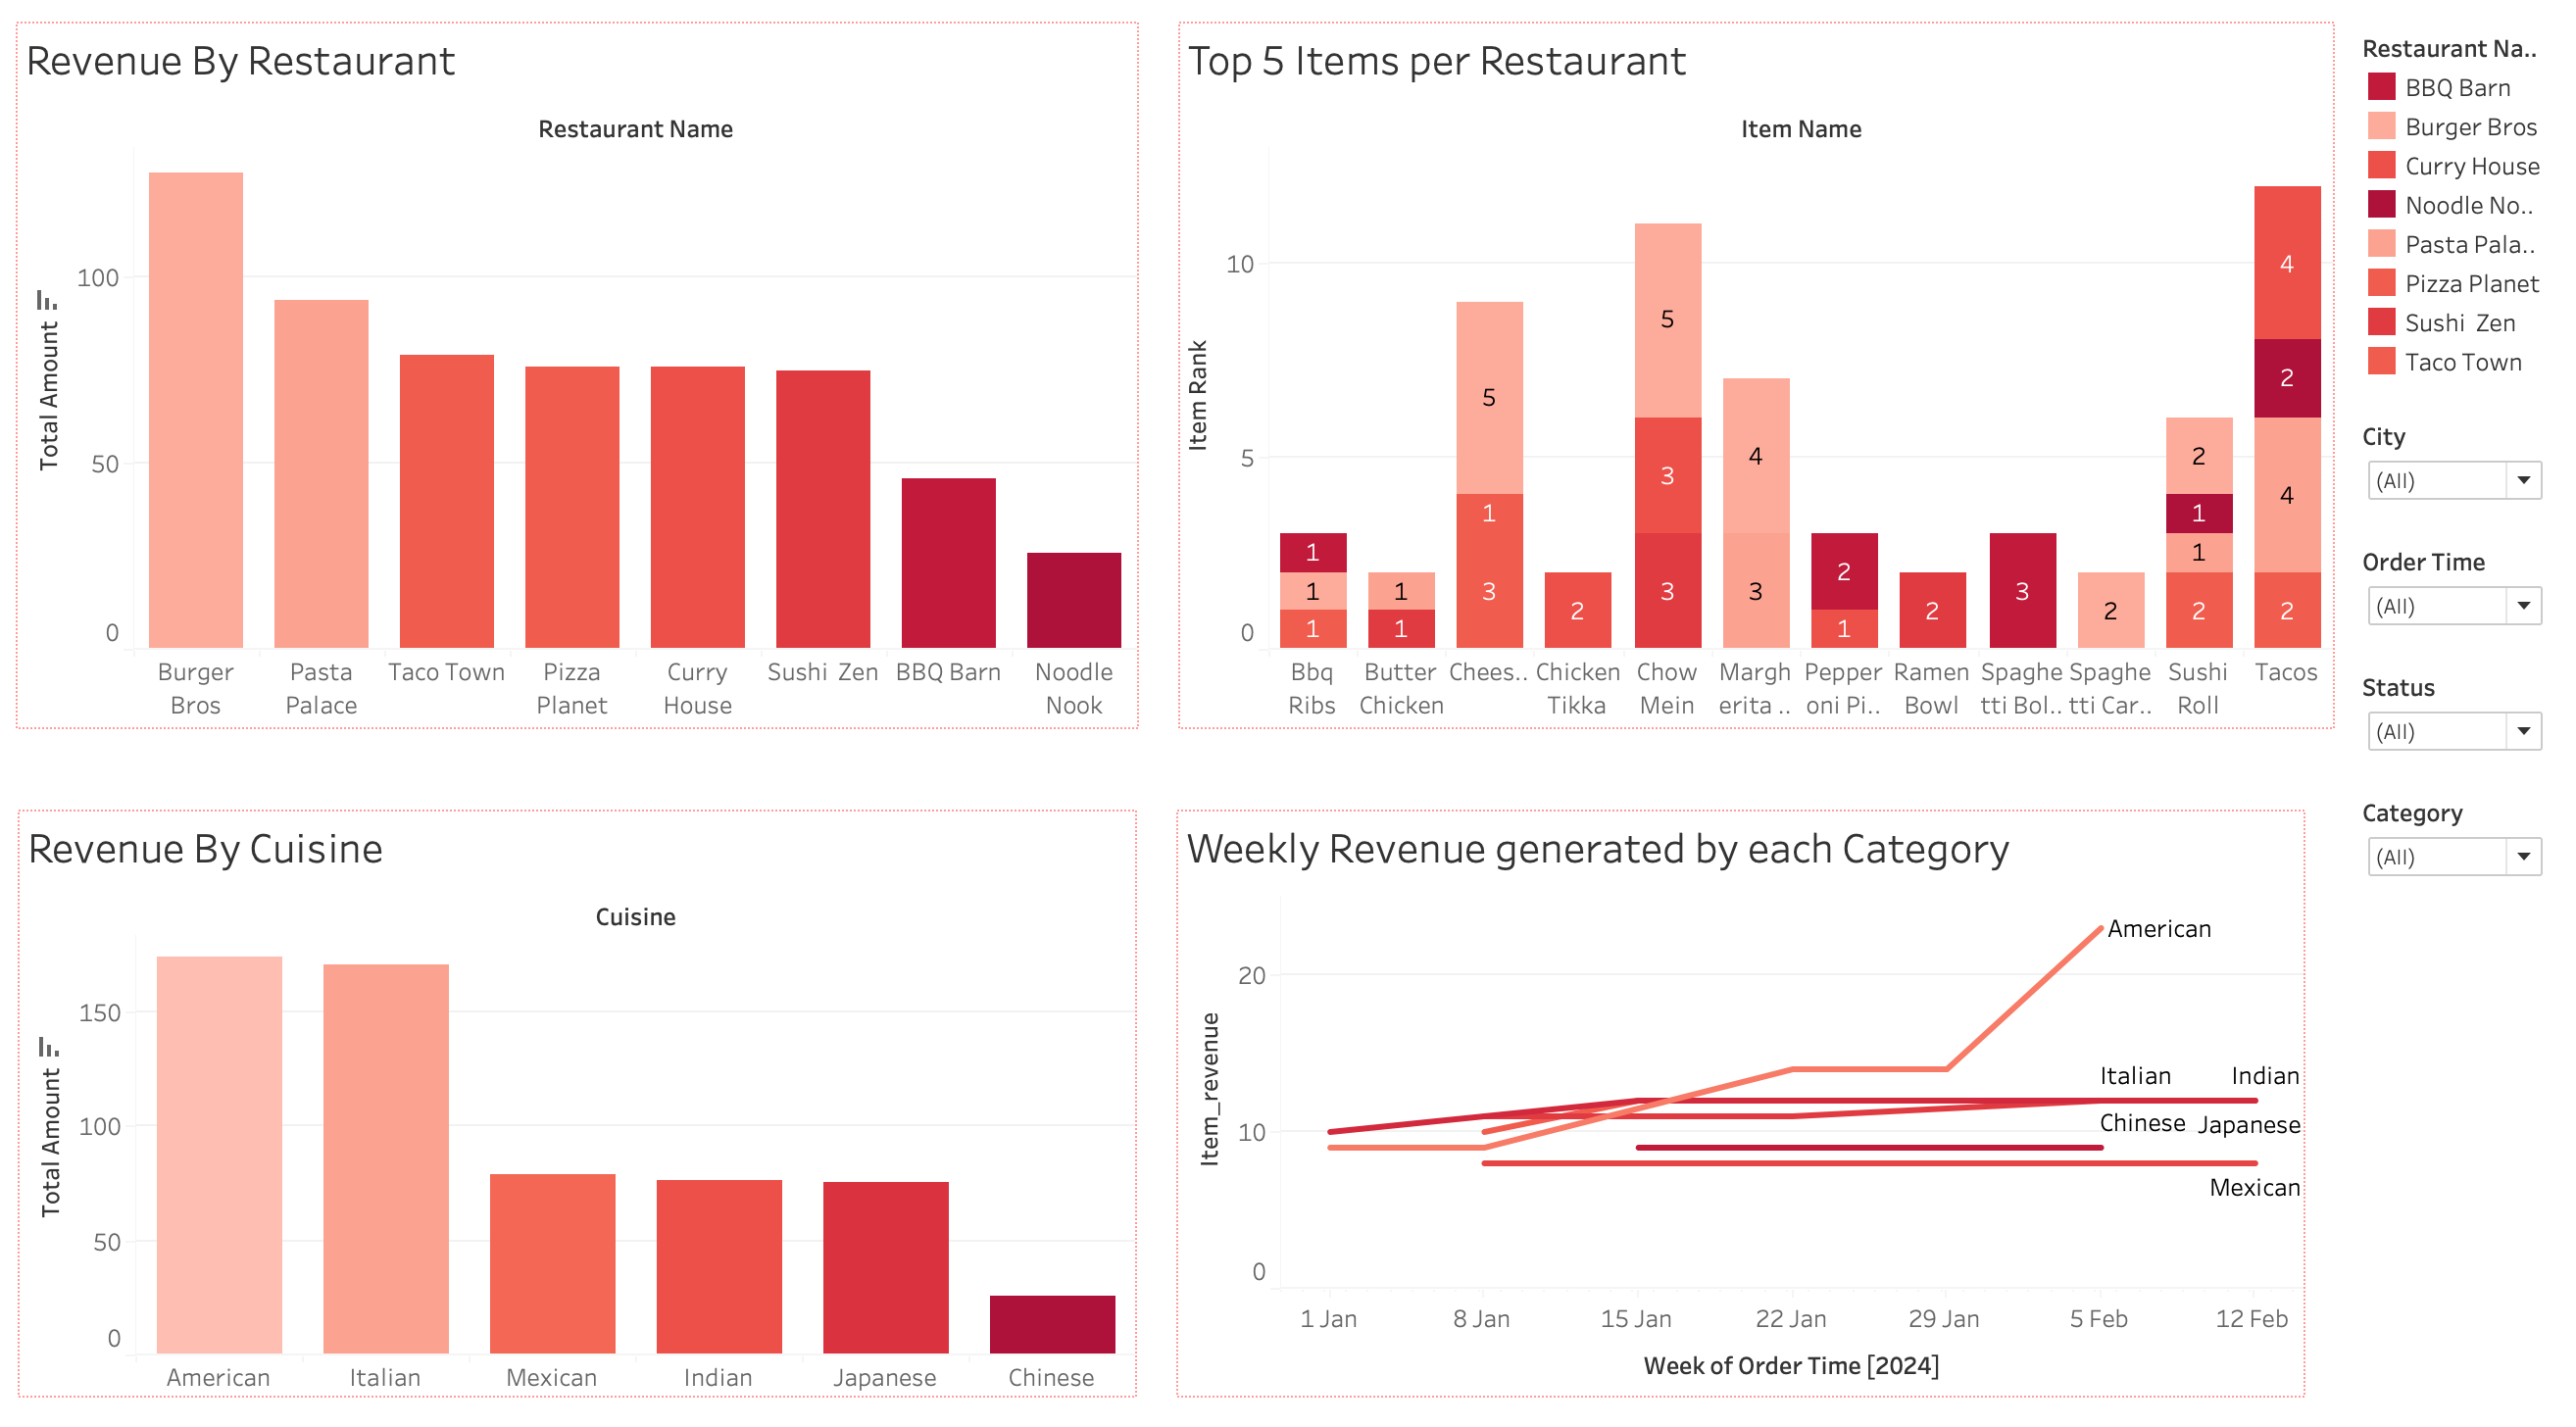

Layout of this report page (visuals, bound fields, positions):
{"tool":"tableau","page":{"name":"Dashboard 1","canvas":[1000,1000],"units":"permille","ordinal":0},"visuals":[{"type":"worksheet","title":"Sheet 8","mark":"Automatic","box":[6.2,12.2,190.8,235.8]},{"type":"worksheet","title":"Sheet 11","mark":"Automatic","box":[197.1,12.2,199.6,235.8]},{"type":"worksheet","title":"Sheet 9","mark":"Automatic","box":[396.6,12.2,199.6,235.8]},{"type":"worksheet","title":"Sheet 10","mark":"Automatic","box":[596.2,12.2,199.6,235.8]},{"type":"worksheet","title":"Sheet 12","mark":"Automatic","box":[795.8,12.2,199.6,235.8]},{"type":"worksheet","title":"Sheet 14","mark":"Bar","rows":["order_id"],"cols":["order_time"],"box":[556,296.4,323.2,687.4]},{"type":"filter","title":"Sheet 13","param":"[federated.1q6bvby103prvn18byx0q17hj22l].[none:status:nk]","box":[882.1,297.7,118.6,86.7]},{"type":"worksheet","title":"Sheet 13","mark":"Automatic","rows":["total_amount"],"cols":["order_time"],"box":[11.6,299.1,545.9,687.4]},{"type":"filter","title":"Sheet 13","param":"[federated.1q6bvby103prvn18byx0q17hj22l].[tdy:order_time:qk]","box":[882.1,384.4,118.6,109.8]},{"type":"filter","title":"Sheet 13","param":"[federated.1q6bvby103prvn18byx0q17hj22l].[none:category:nk]","box":[882.1,494.2,118.6,86.7]},{"type":"filter","title":"Sheet 13","param":"[federated.1q6bvby103prvn18byx0q17hj22l].[none:city:nk]","box":[882.1,580.9,118.6,86.7]},{"type":"legend","title":"Sheet 14","param":"[federated.1q6bvby103prvn18byx0q17hj22l].[mn:order_time:ok]","box":[882.1,667.6,118.6,105.7]}]}

Visuals, with their boxes on the dashboard's canvas, which has no fixed pixel size, in thousandths of its width and height (x1, y1, x2, y2). These are canvas units, not pixel positions in the 2576x1427 screenshot, which may show the page scaled, cropped or inside an application window:
"Sheet 8" worksheet: region(6, 12, 197, 248)
"Sheet 11" worksheet: region(197, 12, 397, 248)
"Sheet 9" worksheet: region(397, 12, 596, 248)
"Sheet 10" worksheet: region(596, 12, 796, 248)
"Sheet 12" worksheet: region(796, 12, 995, 248)
"Sheet 14" worksheet (Bar marks): region(556, 296, 879, 984)
"Sheet 13" filter: region(882, 298, 1001, 384)
"Sheet 13" worksheet: region(12, 299, 558, 986)
"Sheet 13" filter: region(882, 384, 1001, 494)
"Sheet 13" filter: region(882, 494, 1001, 581)
"Sheet 13" filter: region(882, 581, 1001, 668)
"Sheet 14" legend: region(882, 668, 1001, 773)
